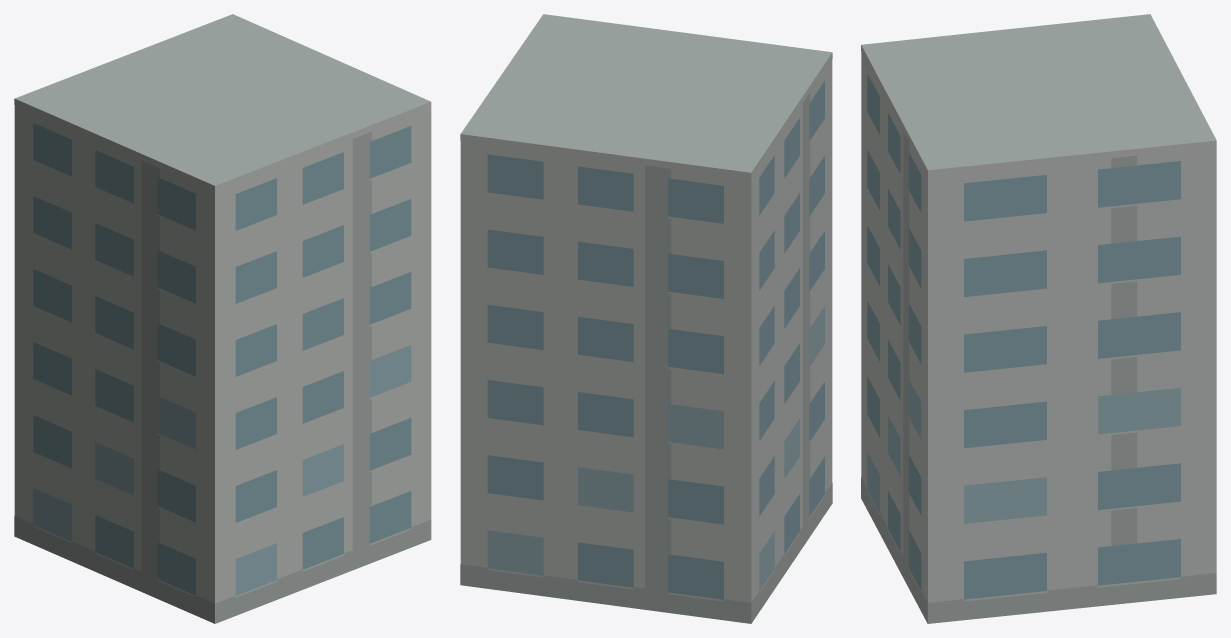
File: survey-upis-32800130.glb
3 views of the same model, side by side, from view 1: azimuth 30°, elevation 25°; view 2: azimuth 150°, elevation 25°; view 3: azimuth 270°, elevation 25° (orthographic). The views are drawn at different scales.
Parts seen in each view (by area): view 1: survey-upis-32800130.tmp; view 2: survey-upis-32800130.tmp; view 3: survey-upis-32800130.tmp.
Part boxes in pixels (x1,y1,x2,y2): survey-upis-32800130.tmp: [14, 14, 431, 623]; survey-upis-32800130.tmp: [460, 14, 832, 623]; survey-upis-32800130.tmp: [861, 14, 1216, 623].
Size of the model in its own units: 12.06 by 16.3 by 11.59.
